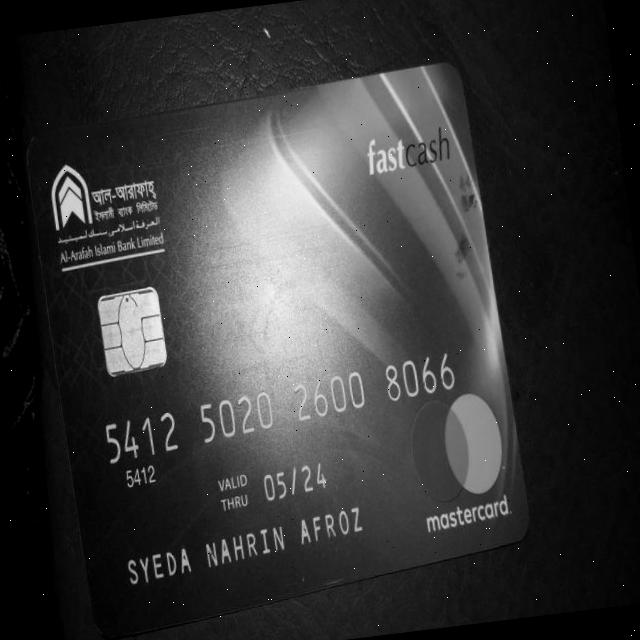card: (26, 58, 538, 640)
